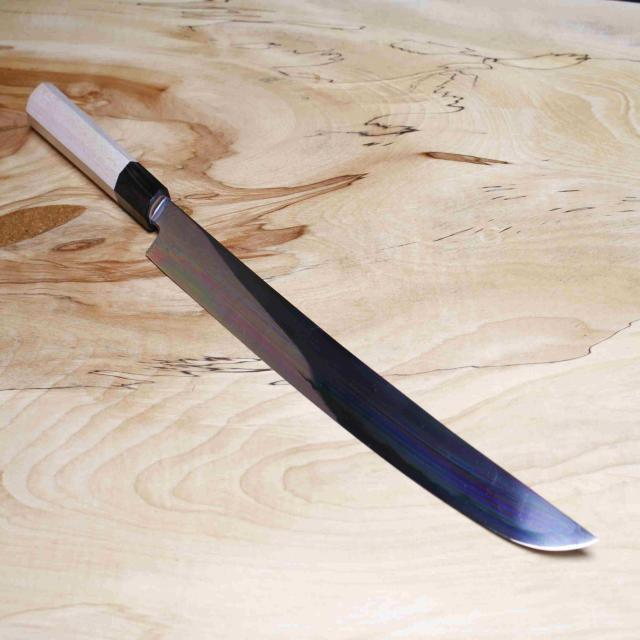short sword: (16, 78, 606, 565)
